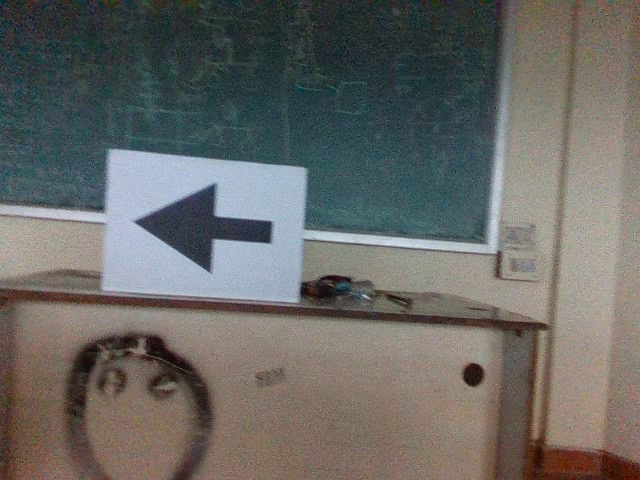Left: (130, 177, 275, 278)
